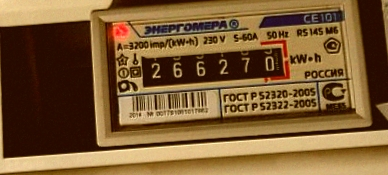0: (262, 54, 276, 72)
2: (148, 60, 162, 79), (217, 56, 229, 75)
6: (194, 59, 207, 78), (171, 60, 184, 78)
7: (239, 55, 252, 73)
screen: (130, 35, 296, 96)
